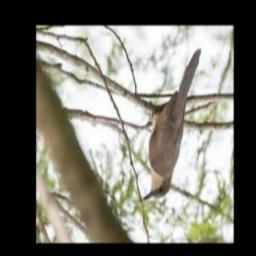Cuckoo: (143, 49, 201, 200)
